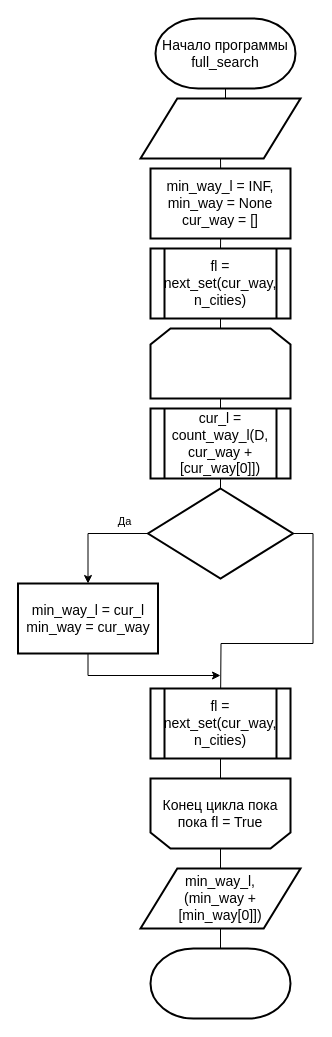
Some shapes in this 332 by 1037 pixel diagram are drawn without their labels. The centre of each missing label's shape, as x and y in pixels:
"(cur_l<min_way_l)?" goes at [220,533].
"D, n_cities" goes at [220,128].
"Конец программы full_search" goes at [220,983].
"Цикл пока fl = True" goes at [220,363].
